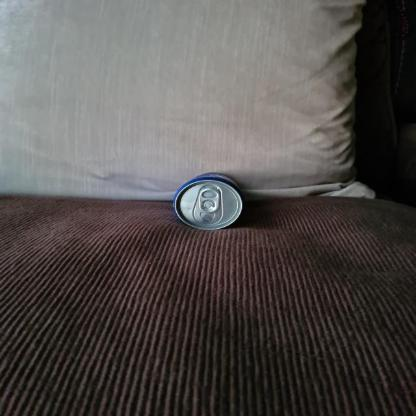Can: (170, 172, 246, 232)
